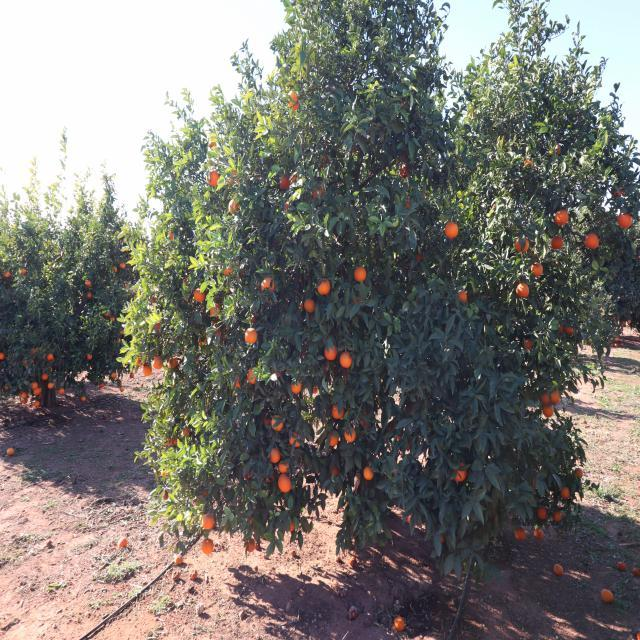Jeruk Sudah Matang: (452, 459, 468, 483), (284, 90, 302, 111), (228, 198, 246, 218), (304, 315, 320, 334), (260, 278, 276, 296), (554, 208, 570, 226), (319, 148, 332, 170), (289, 429, 304, 448), (222, 259, 236, 279), (278, 473, 292, 493), (348, 138, 362, 158), (445, 220, 459, 240), (395, 142, 408, 163), (316, 277, 331, 295), (515, 236, 530, 254), (585, 232, 600, 250), (209, 324, 221, 346), (240, 258, 253, 278), (200, 513, 216, 529), (618, 213, 634, 229), (312, 184, 326, 202), (516, 282, 530, 300), (196, 326, 208, 346), (280, 199, 296, 214), (407, 506, 419, 526), (206, 170, 220, 187), (244, 327, 258, 344), (290, 170, 304, 187), (331, 402, 345, 419), (193, 286, 206, 304), (228, 170, 242, 186), (530, 262, 544, 278), (271, 362, 284, 379), (293, 137, 306, 154), (330, 464, 343, 481), (233, 369, 244, 389), (269, 446, 281, 464), (290, 376, 302, 394), (524, 157, 536, 175), (278, 458, 292, 473), (354, 266, 367, 282), (551, 234, 564, 250), (611, 184, 624, 200), (152, 320, 163, 338), (210, 302, 222, 318), (272, 416, 284, 432), (249, 308, 261, 324), (400, 164, 412, 180), (345, 426, 357, 442), (515, 526, 527, 542), (456, 290, 468, 306), (246, 537, 257, 554), (242, 462, 253, 479), (562, 323, 576, 336), (248, 367, 258, 385), (204, 538, 214, 556), (284, 518, 296, 533), (304, 298, 316, 313), (400, 196, 412, 211), (542, 403, 554, 418), (328, 431, 339, 447), (280, 174, 290, 191), (302, 192, 314, 206), (550, 390, 562, 404), (181, 427, 192, 442), (551, 142, 562, 157), (265, 465, 274, 483), (555, 318, 564, 336), (136, 350, 146, 366), (364, 466, 374, 482), (538, 504, 548, 520), (541, 389, 551, 405), (561, 486, 572, 500), (245, 515, 255, 530), (296, 269, 306, 284), (531, 474, 541, 489), (264, 410, 272, 428), (168, 357, 179, 370), (524, 337, 535, 350), (168, 228, 178, 242), (180, 372, 190, 386), (534, 526, 544, 540), (204, 479, 213, 494), (223, 326, 234, 338), (247, 478, 258, 490), (154, 357, 164, 370), (182, 296, 192, 309), (574, 466, 584, 479), (398, 428, 406, 444), (354, 296, 364, 308), (553, 510, 563, 522), (416, 248, 424, 262), (468, 108, 476, 122), (143, 364, 152, 376), (420, 187, 428, 200), (162, 467, 171, 478), (196, 494, 203, 508), (405, 438, 412, 452), (47, 352, 55, 364), (152, 348, 160, 360), (149, 292, 157, 304), (193, 352, 201, 364), (170, 434, 178, 446), (182, 276, 190, 287), (162, 435, 170, 446), (40, 372, 50, 380), (310, 383, 318, 393), (4, 268, 11, 278), (31, 381, 39, 389), (85, 278, 92, 287), (104, 308, 111, 316), (19, 267, 26, 275), (20, 392, 28, 399), (34, 400, 41, 408), (34, 388, 41, 396), (92, 375, 99, 383), (58, 388, 65, 395), (86, 291, 92, 299), (48, 366, 54, 374), (87, 352, 93, 360), (111, 372, 117, 380), (0, 351, 5, 360), (300, 298, 304, 309), (111, 266, 117, 273), (4, 384, 10, 391), (16, 389, 22, 396), (80, 395, 86, 402), (100, 382, 106, 389), (120, 262, 126, 268), (100, 315, 106, 321), (110, 317, 116, 323), (22, 398, 28, 404), (98, 366, 104, 372), (36, 393, 43, 398), (130, 372, 135, 379), (136, 292, 140, 300), (124, 284, 129, 290), (49, 382, 54, 388), (132, 288, 136, 294), (116, 337, 120, 343), (24, 358, 28, 364), (32, 348, 36, 354), (32, 358, 36, 364), (120, 386, 124, 392), (628, 318, 632, 324), (622, 294, 626, 300), (622, 320, 626, 325), (614, 343, 618, 348), (620, 342, 624, 347), (119, 380, 122, 386), (615, 336, 618, 342), (120, 330, 124, 334), (612, 315, 616, 319), (119, 368, 122, 373), (614, 270, 616, 276), (634, 235, 636, 239)
